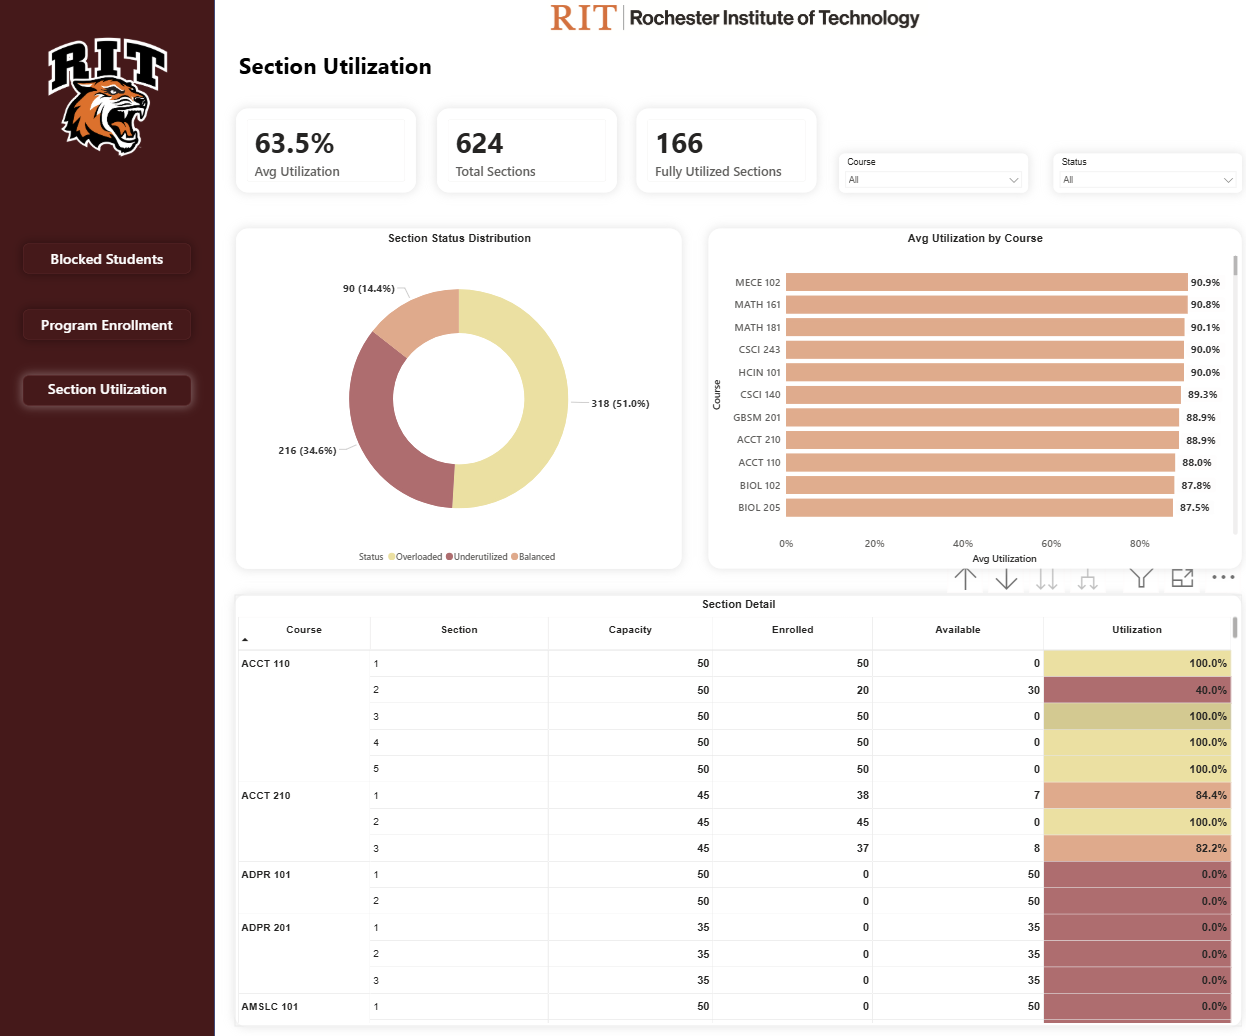

The dashboard page shown, as its layout file describes it:
{"tool":"powerbi","page":{"name":"Section Utilization","canvas":[2100,1750],"ordinal":2},"visuals":[{"type":"slicer","fields":{"Values":["section_enrollment.Course"]},"box":[1400,258.3,315,65],"z":0},{"type":"slicer","fields":{"Values":["section_enrollment.Status"]},"box":[1756.7,258.3,315,65],"z":1000},{"type":"cardVisual","fields":{"Data":["Avg(section_enrollment.Utilization)"]},"box":[394,183,300,140],"z":2000},{"type":"cardVisual","fields":{"Data":["CountNonNull(section_enrollment.Section)"]},"box":[729,183.7,300,140],"z":3000},{"type":"cardVisual","fields":{"Data":["section_enrollment.Fully Utilized Sections"]},"box":[1063.7,183.7,300,140],"z":4000},{"type":"shape","box":[0,0,360,1750],"z":5000},{"type":"image","box":[713.3,0,1036.7,61.7],"z":6000},{"type":"textbox","box":[394,80,1544,70],"z":7000},{"type":"actionButton","title":"Executive Summary","box":[40,408,280,50],"z":8000},{"type":"actionButton","box":[40,518,280,50],"z":9000},{"type":"actionButton","title":"Section Utilization","box":[40,628,280,50],"z":10000},{"type":"donutChart","title":"Section Status Distribution","fields":{"Category":["section_enrollment.Status"],"Y":["CountNonNull(section_enrollment.Section)"]},"box":[394,382.5,742.5,567.5],"z":11000},{"type":"pivotTable","title":"Section Detail","fields":{"Rows":["section_enrollment.Course","section_enrollment.Section"],"Values":["Sum(section_enrollment.Capacity)","Sum(section_enrollment.Enrolled)","Sum(section_enrollment.Available)","Sum(section_enrollment.Utilization)"]},"box":[393.3,993.3,1678.3,720],"z":12000},{"type":"barChart","title":"Avg Utilization by Course","fields":{"Category":["section_enrollment.Course"],"Y":["Avg(section_enrollment.Utilization)"]},"box":[1183.3,383.3,888.3,566.7],"z":13000},{"type":"image","box":[60,61.7,241.7,203.3],"z":14000}]}

Visuals, with their boxes in screenshot pixels (x1, y1, x2, y2), scaled from the page's 2100x1750 canvas onto the 1246x1036 screenshot:
slicer - section_enrollment.Course: x1=831, y1=153, x2=1018, y2=191
slicer - section_enrollment.Status: x1=1042, y1=153, x2=1229, y2=191
cardVisual - Avg(section_enrollment.Utilization): x1=234, y1=108, x2=412, y2=191
cardVisual - CountNonNull(section_enrollment.Section): x1=433, y1=109, x2=611, y2=192
cardVisual - section_enrollment.Fully Utilized Sections: x1=631, y1=109, x2=809, y2=192
shape: x1=0, y1=0, x2=214, y2=1035
image: x1=423, y1=0, x2=1038, y2=37
textbox: x1=234, y1=47, x2=1150, y2=89
"Executive Summary" actionButton: x1=24, y1=242, x2=190, y2=271
actionButton: x1=24, y1=307, x2=190, y2=336
"Section Utilization" actionButton: x1=24, y1=372, x2=190, y2=401
"Section Status Distribution" donutChart: x1=234, y1=226, x2=674, y2=562
"Section Detail" pivotTable: x1=233, y1=588, x2=1229, y2=1014
"Avg Utilization by Course" barChart: x1=702, y1=227, x2=1229, y2=562
image: x1=36, y1=37, x2=179, y2=157
